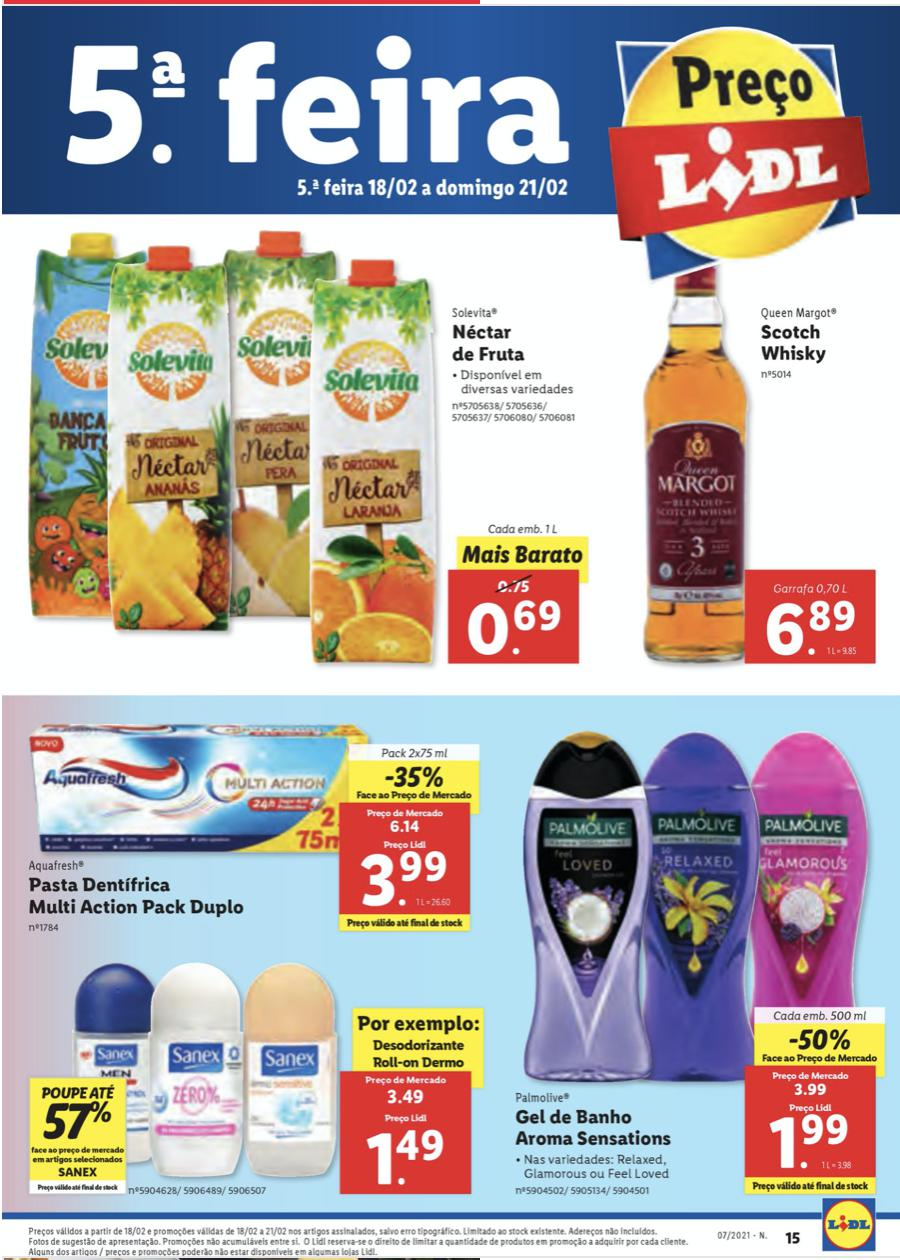name: (23, 874, 259, 931), (506, 1099, 682, 1152), (753, 316, 837, 370), (446, 318, 529, 368)
price: (760, 577, 864, 665), (357, 1107, 451, 1195), (354, 837, 456, 915), (464, 595, 575, 665), (760, 1104, 859, 1179)
product: (21, 224, 590, 671), (506, 715, 893, 1206), (20, 960, 506, 1206), (604, 257, 887, 674), (15, 710, 501, 952)
promotion: (31, 1082, 121, 1148), (379, 762, 446, 793), (787, 1026, 856, 1056)
